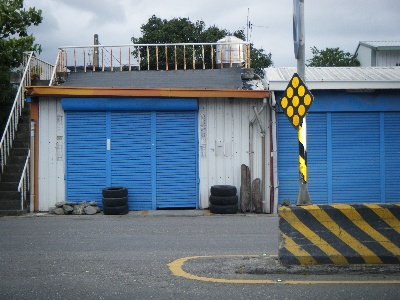tire: (208, 201, 240, 215), (209, 184, 238, 198), (207, 193, 239, 205), (101, 185, 129, 197), (101, 204, 128, 216), (101, 195, 128, 206)
water_tower: (214, 34, 249, 70)
